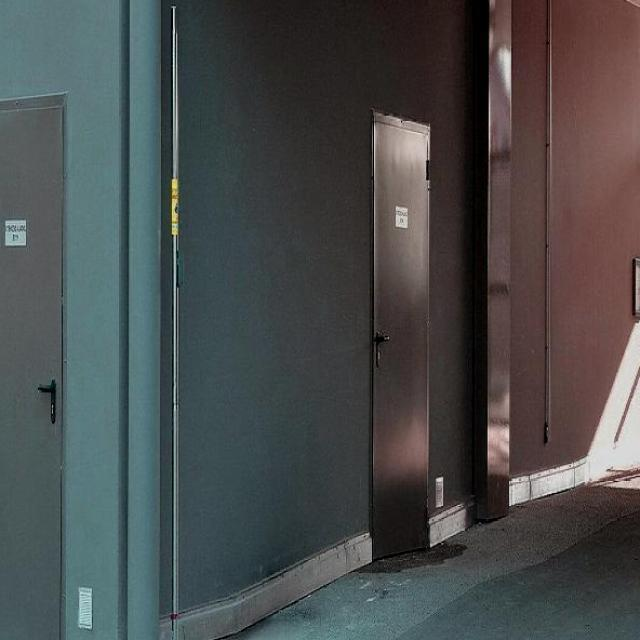door: (5, 91, 70, 640), (366, 101, 436, 560)
